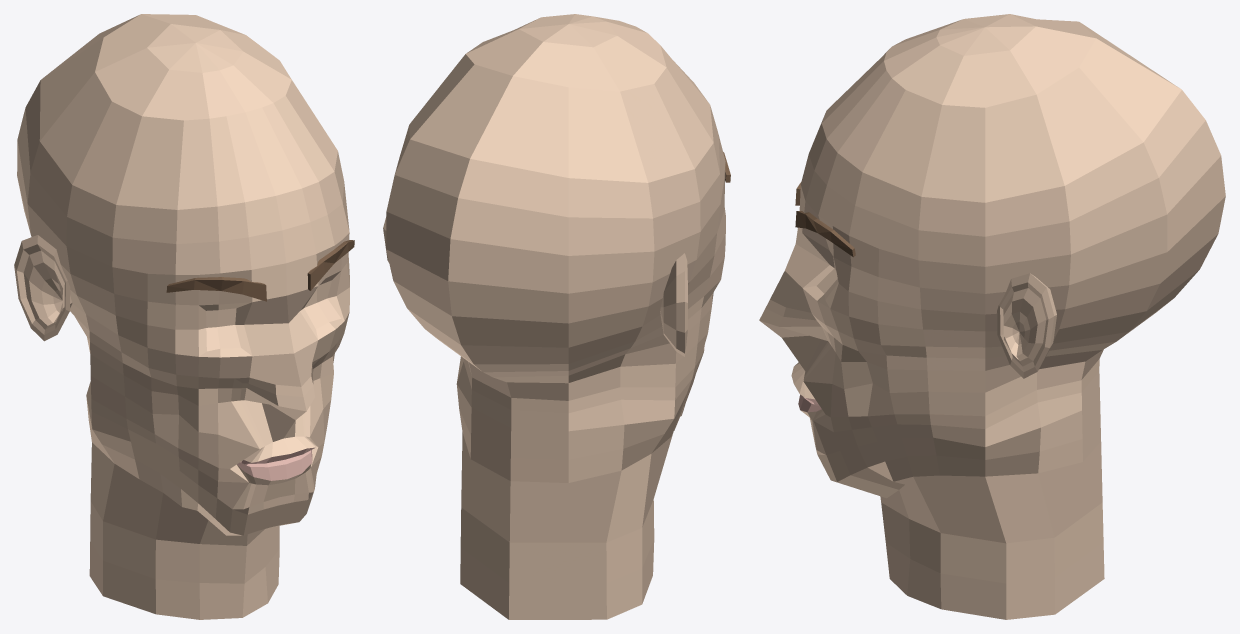
File: head_tpl_v9.glb
3 views of the same model, side by side, from view 1: azimuth 30°, elevation 25°; view 2: azimuth 150°, elevation 25°; view 3: azimuth 270°, elevation 25° (orthographic). The views are drawn at different scales.
Parts seen in each view (by area): view 1: Head_Main, Ears, Eyebrow_R, Eyebrow_L; view 2: Head_Main, Ears; view 3: Head_Main, Ears, Eyebrow_L.
Part boxes in pixels (x1,y1,x2,y2): Head_Main: (17, 14, 349, 619); Ears: (14, 235, 72, 341); Eyebrow_R: (166, 277, 266, 301); Eyebrow_L: (307, 240, 354, 290); Head_Main: (386, 14, 725, 619); Ears: (383, 217, 687, 356); Head_Main: (759, 14, 1225, 619); Ears: (997, 273, 1056, 378); Eyebrow_L: (795, 211, 855, 257).
Bounding box in the file's own units: 0.1651 × 0.2886 × 0.2209.
